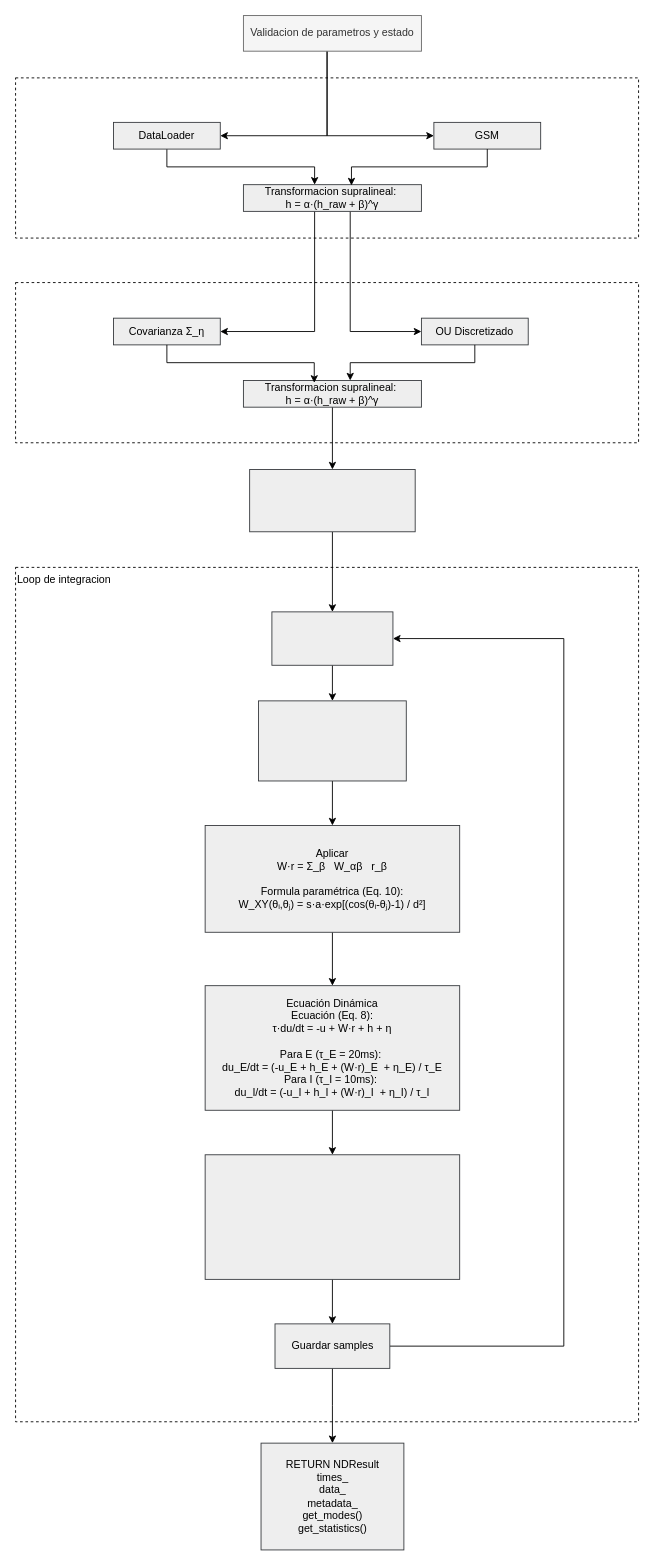
This 654x1566 diagram has some shape labels left out. The box of each missing label's shape, as (x1, y1, x2, y2) in pixels:
Actualizar Ruido ξ(t) ~ N(0, I) η(t+dt) = ε₁·η(t) + ε₂·L·ξ(t): (258, 700, 406, 781)
Calcular rates r_E = k·[u_E]₊ⁿ r_I = k·[u_I]₊ⁿ: (271, 611, 393, 665)
Construccion del input: (15, 77, 639, 238)
Construccion del ruido: (15, 282, 639, 443)
Integrar (Euler) u_E(t+dt) = u_E(t) + dt·du_E/dt u_I(t+dt) = u_I(t) + dt·du_I/dt: (204, 1154, 460, 1279)
Sample de distribución inicial u(0) ~ N(μ₀, Σ₀) η(0) ~ N(0, Σ_η): (249, 469, 415, 532)
